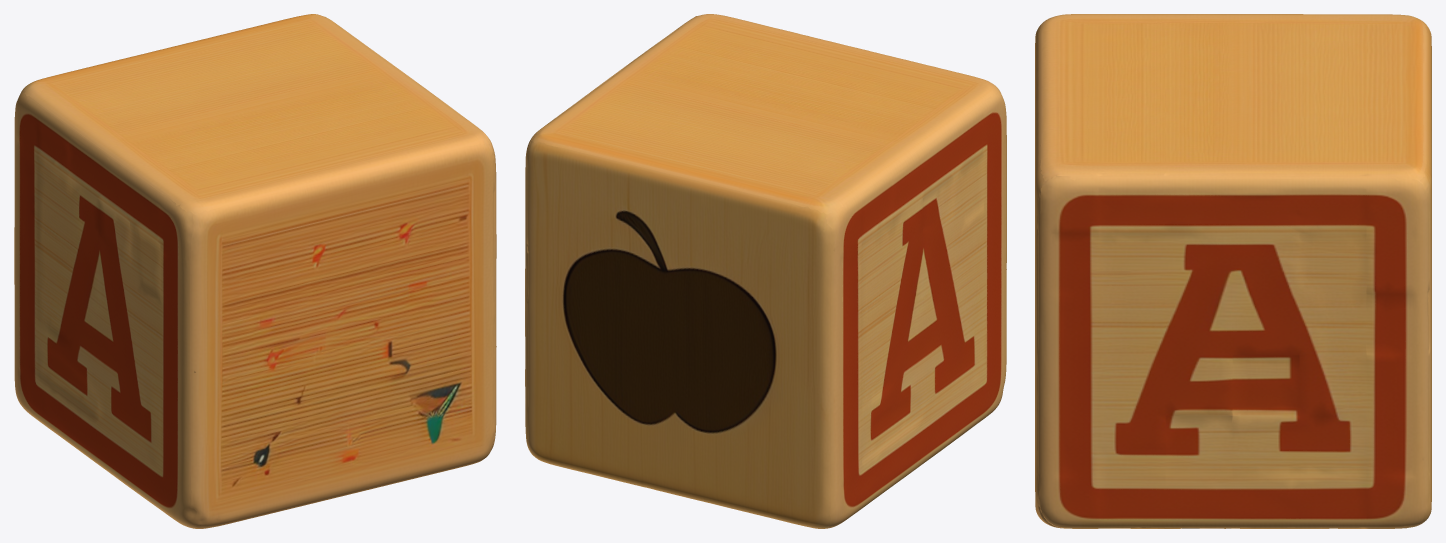
3 views of the same model, side by side, from view 1: azimuth 30°, elevation 25°; view 2: azimuth 150°, elevation 25°; view 3: azimuth 270°, elevation 25° (orthographic). The views are drawn at different scales.
Parts seen in each view (by area): view 1: tmpu93n0clf.ply; view 2: tmpu93n0clf.ply; view 3: tmpu93n0clf.ply.
Part boxes in pixels (x1,y1,x2,y2): tmpu93n0clf.ply: (14, 14, 496, 528); tmpu93n0clf.ply: (525, 14, 1006, 528); tmpu93n0clf.ply: (1035, 14, 1431, 528).
Bounding box in the file's own units: 1.96 × 1.96 × 1.96.
1 material, 1 textured.
